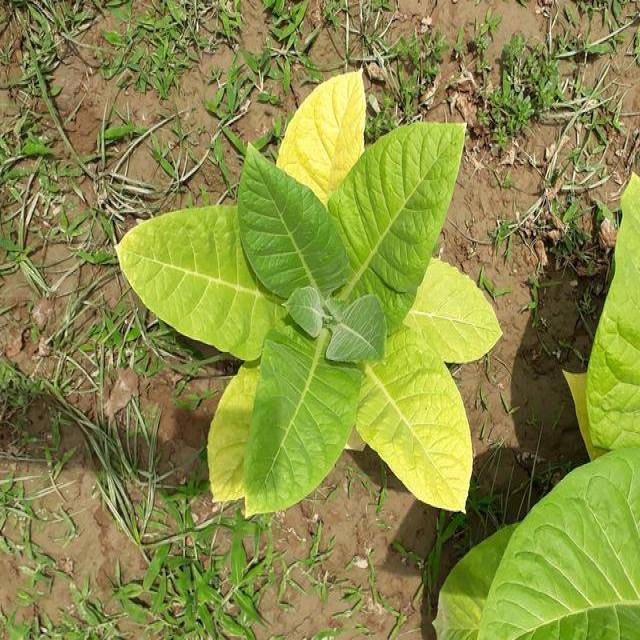crop: (122, 72, 498, 525), (443, 440, 640, 640), (577, 175, 640, 444)
